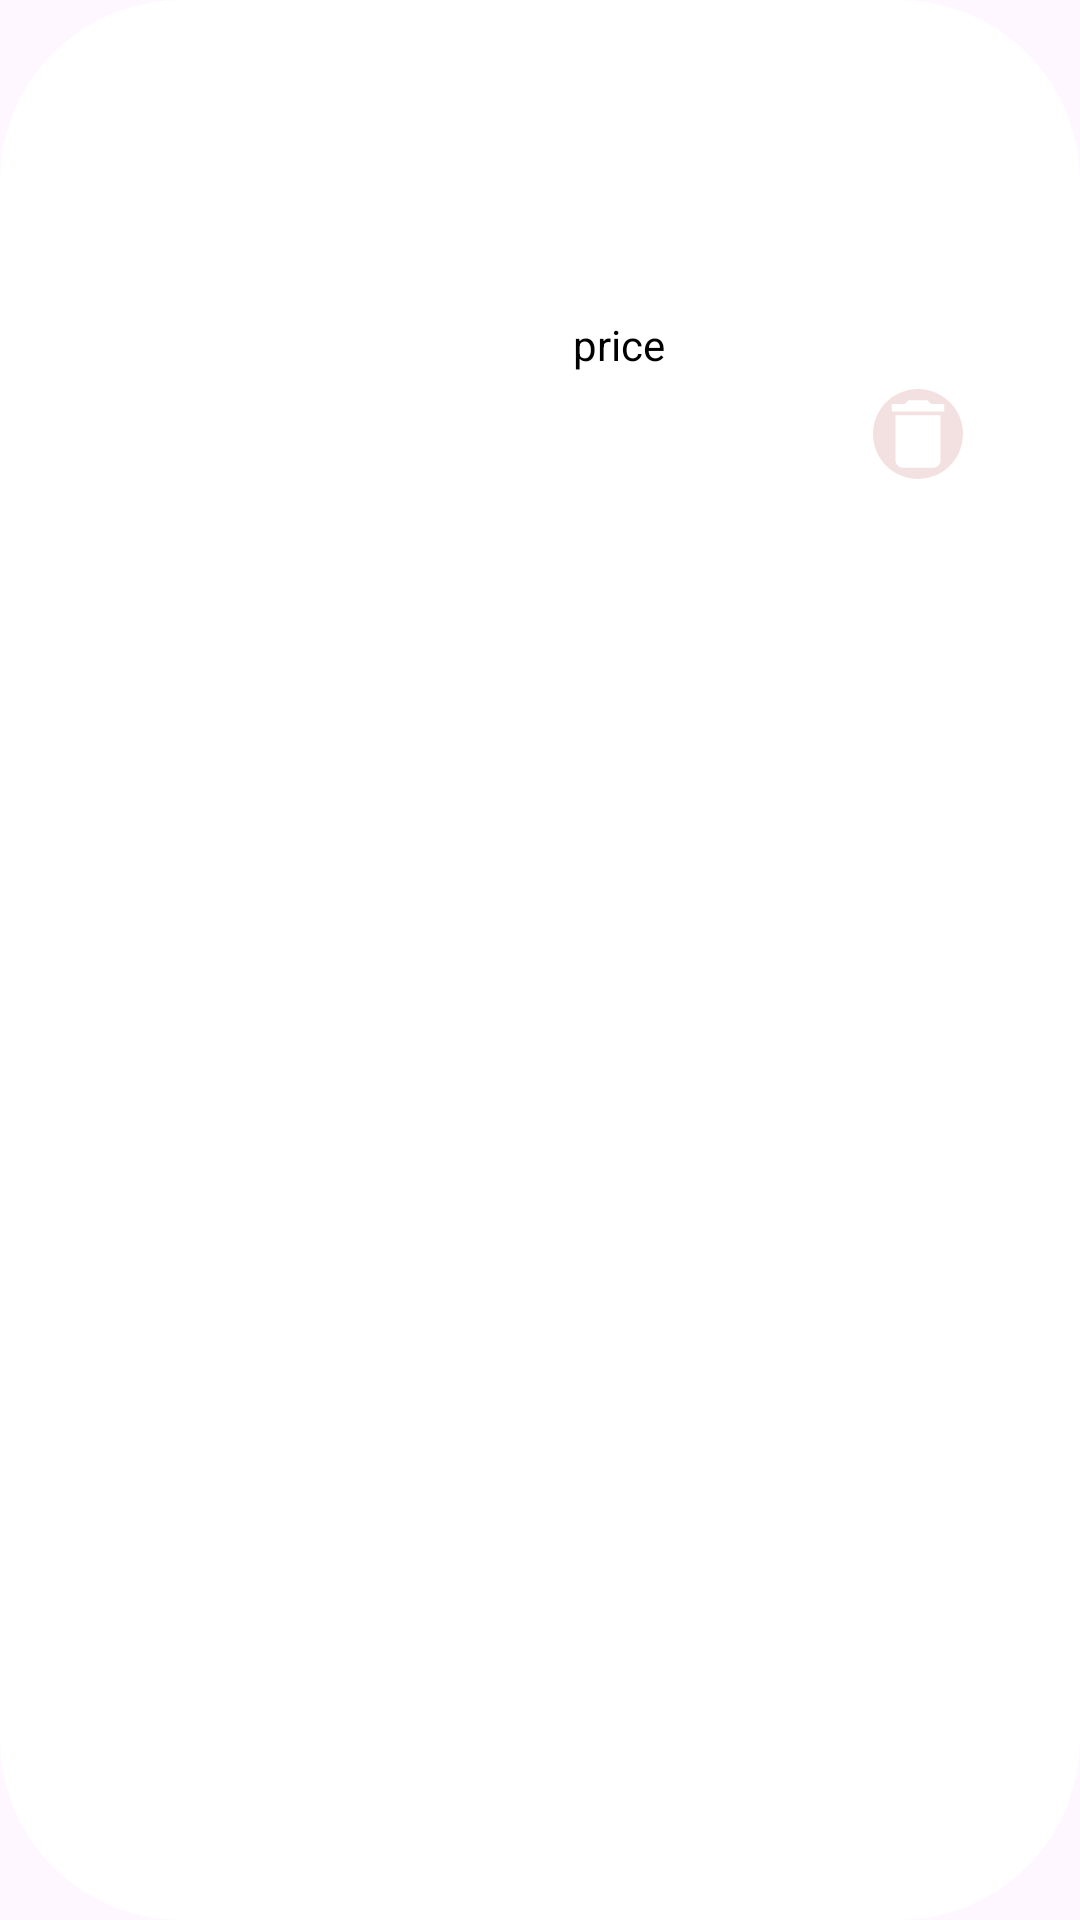

Icon click points for this 1080 × 1920 phone screenshot, format (x,y):
delete: (918,434)
